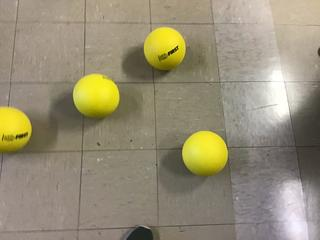power_cell: (180, 131, 230, 177), (73, 72, 121, 119), (143, 25, 187, 72), (1, 106, 34, 156)
